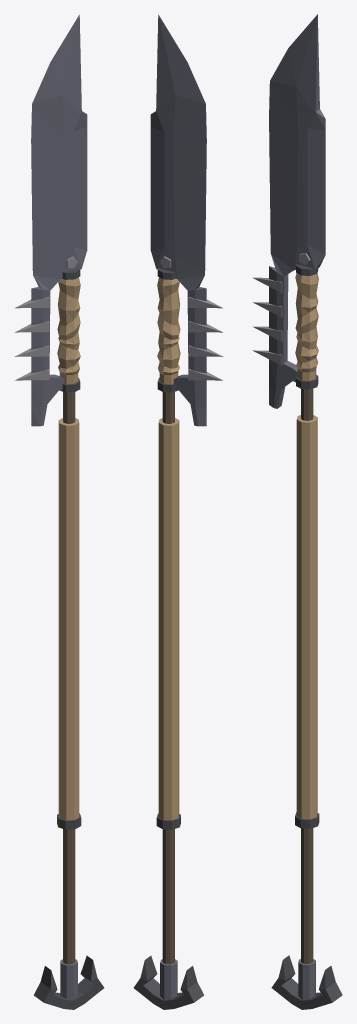
File: Lanca_A23.fbx
The picture shows the model from 3 angles, left to right: view 1: azimuth 30°, elevation 25°; view 2: azimuth 150°, elevation 25°; view 3: azimuth 330°, elevation 25°; orthographic projection.
Parts seen in each view (by area): view 1: polearm_23; view 2: polearm_23; view 3: polearm_23.
Boxes of the visible parts, left/top/right/bottom form: polearm_23: left=14, top=14, right=104, bottom=1009; polearm_23: left=133, top=14, right=223, bottom=1009; polearm_23: left=252, top=14, right=342, bottom=1009.
Size of the model in its own units: 18.74 by 208 by 4.8.
